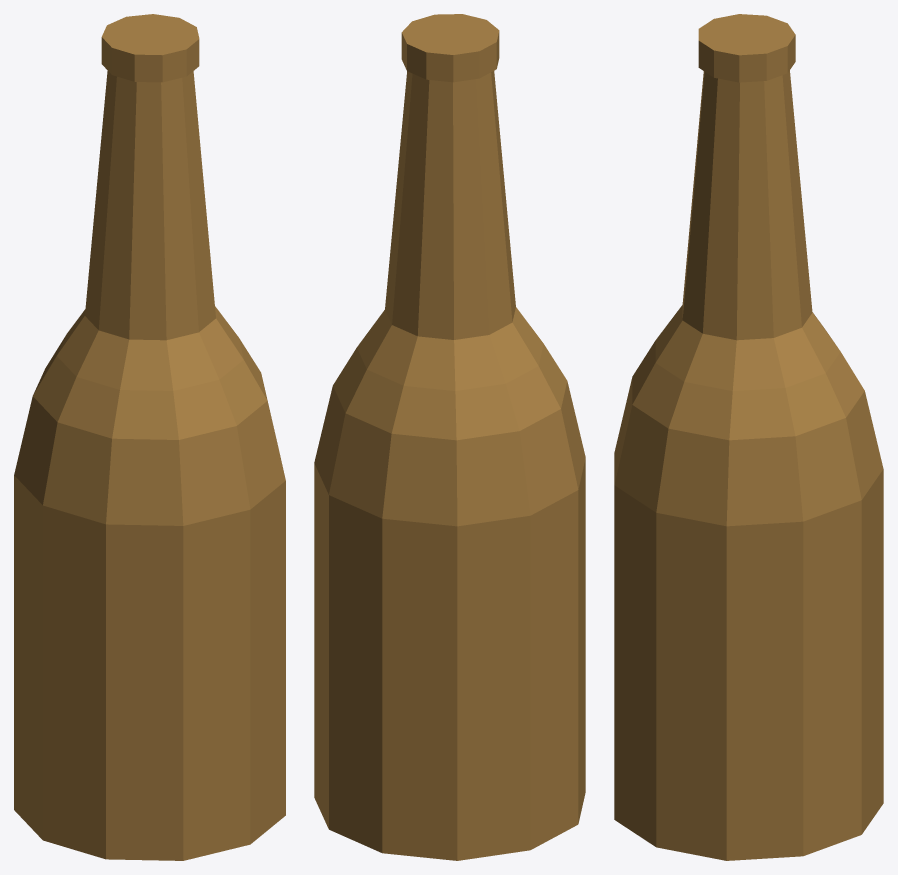
File: tavern-bottle-amber.glb
3 views of the same model, side by side, from view 1: azimuth 30°, elevation 25°; view 2: azimuth 150°, elevation 25°; view 3: azimuth 270°, elevation 25° (orthographic).
Parts seen in each view (by area): view 1: Object_2; view 2: Object_2; view 3: Object_2.
Boxes of the visible parts, x1,y1,x2,y2 form: Object_2: (14, 14, 285, 860); Object_2: (314, 14, 585, 860); Object_2: (614, 14, 883, 860).
Size of the model in its own units: 1.98 by 6.18 by 1.96.
